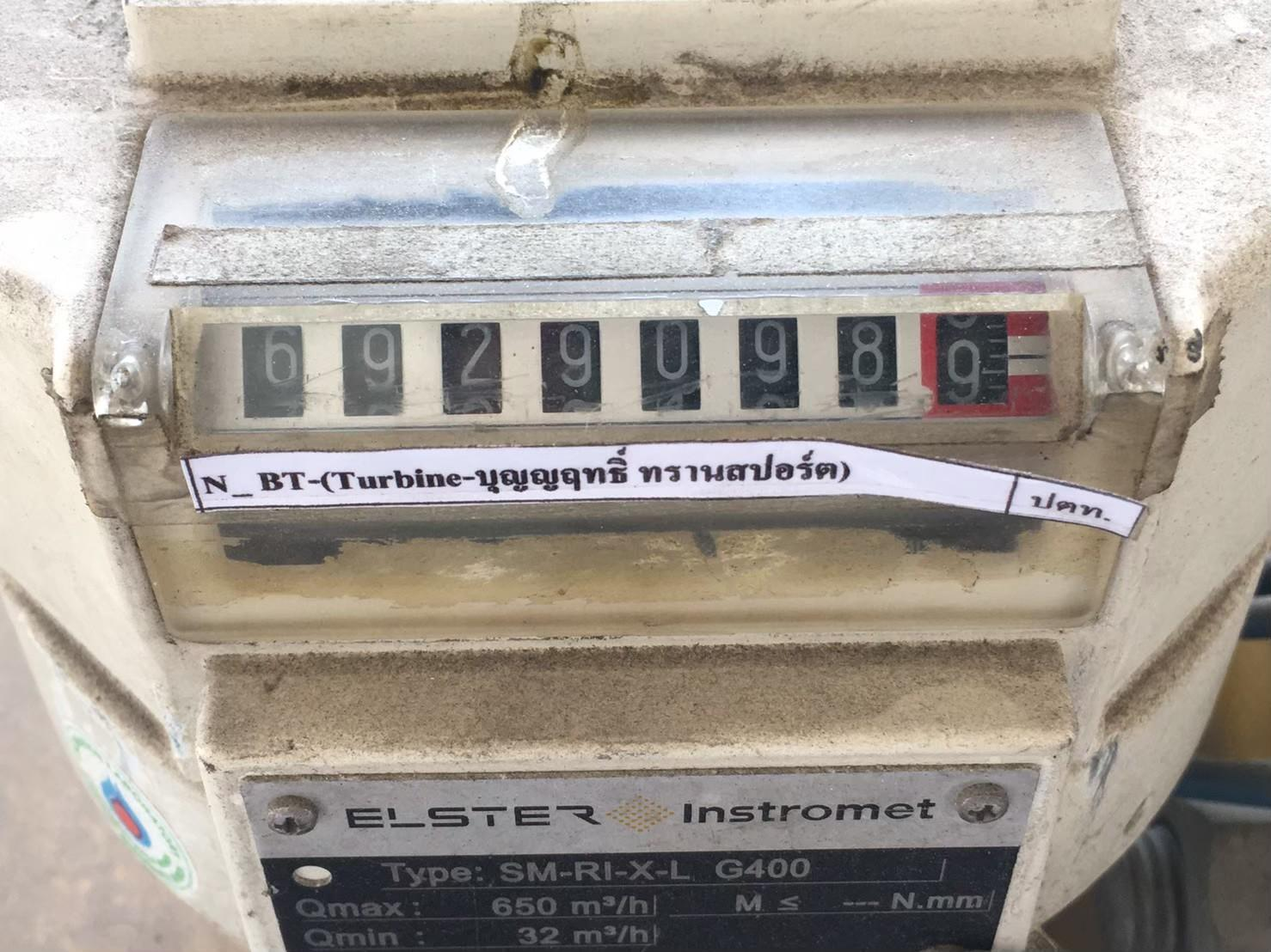analog_dial: (194, 311, 1052, 434)
